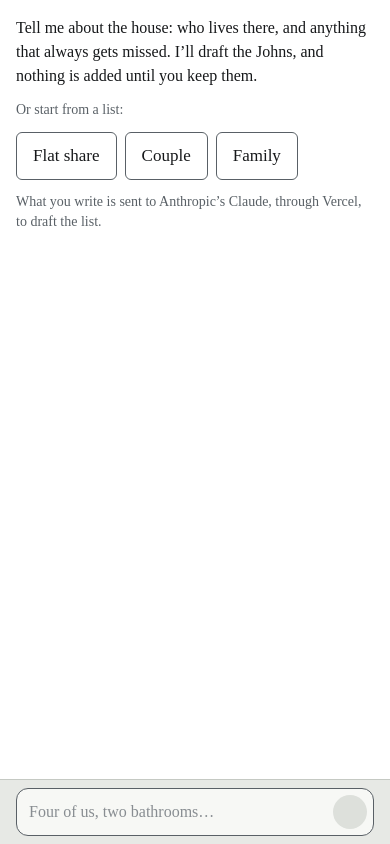
Test: says why when the API refuses, and puts back what was written
Type "Five students, one kitchen" into the text box with test id "chat-input" at (175, 812), box [17, 789, 333, 835]
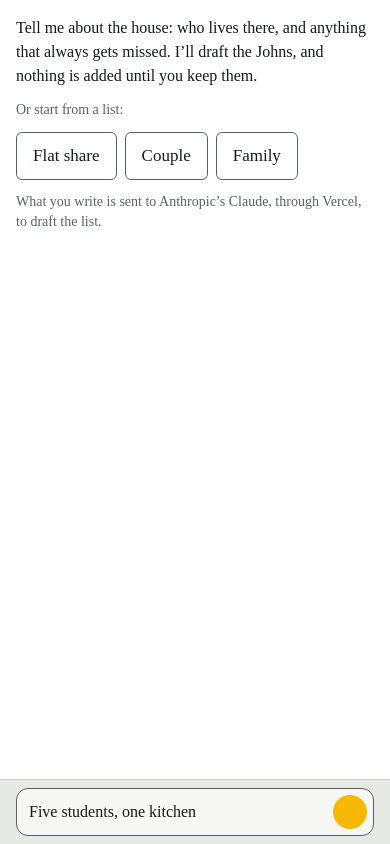
Click the button named "Send" at (350, 812), box [333, 789, 367, 835]
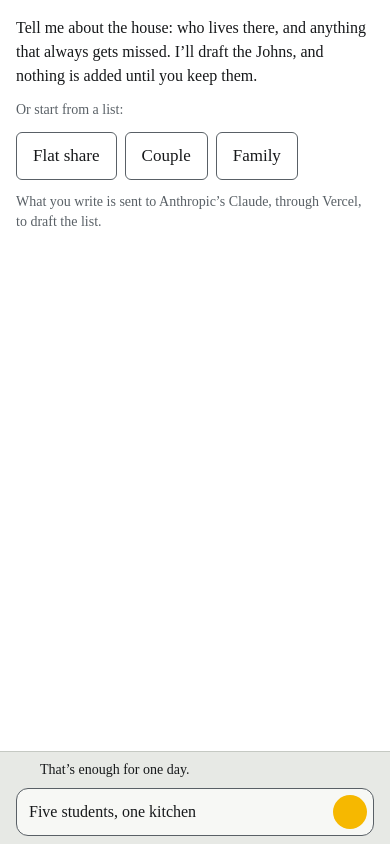
Expected: the message shows "enough for one day", [40, 762, 190, 777]
